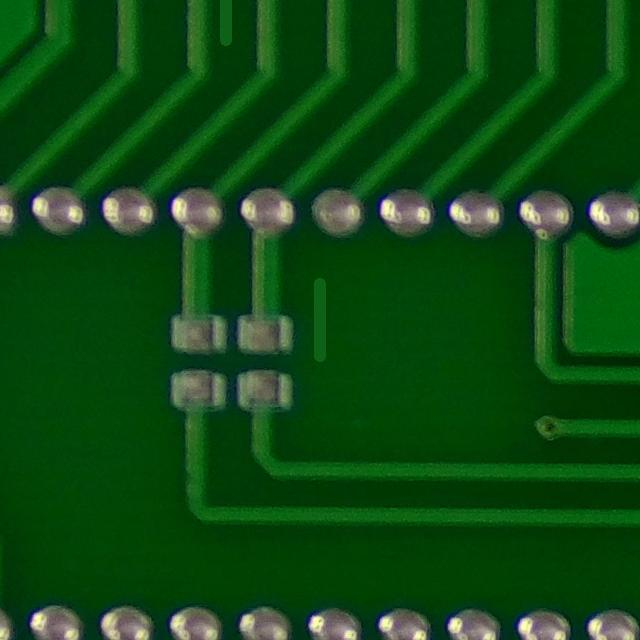spurious_copper: (299, 266, 342, 374)
